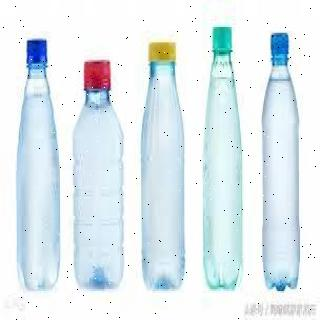Plastic-bottle: (72, 59, 128, 294), (141, 39, 188, 296), (201, 22, 245, 296), (16, 38, 63, 292), (262, 32, 302, 296)
